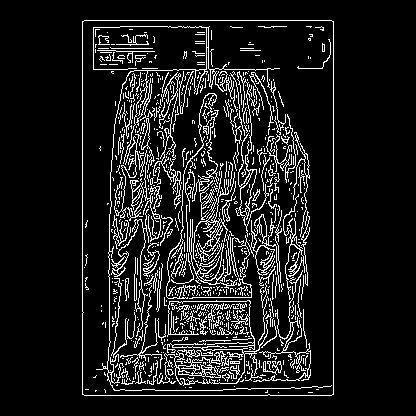buddha-sitting: (88, 222, 210, 258)
